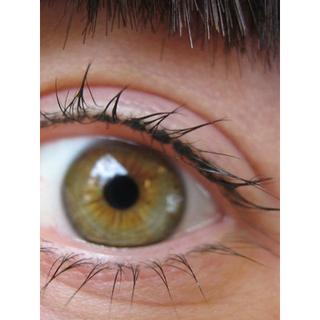pupil: (105, 176, 138, 208)
